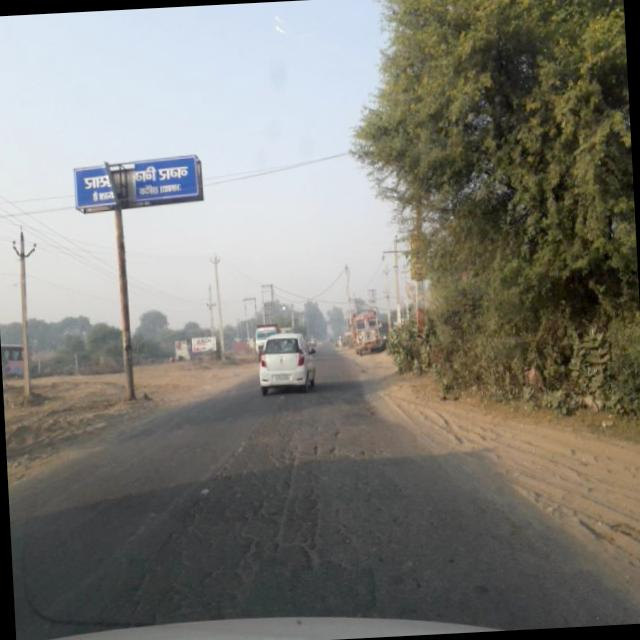crack: (140, 406, 446, 619)
